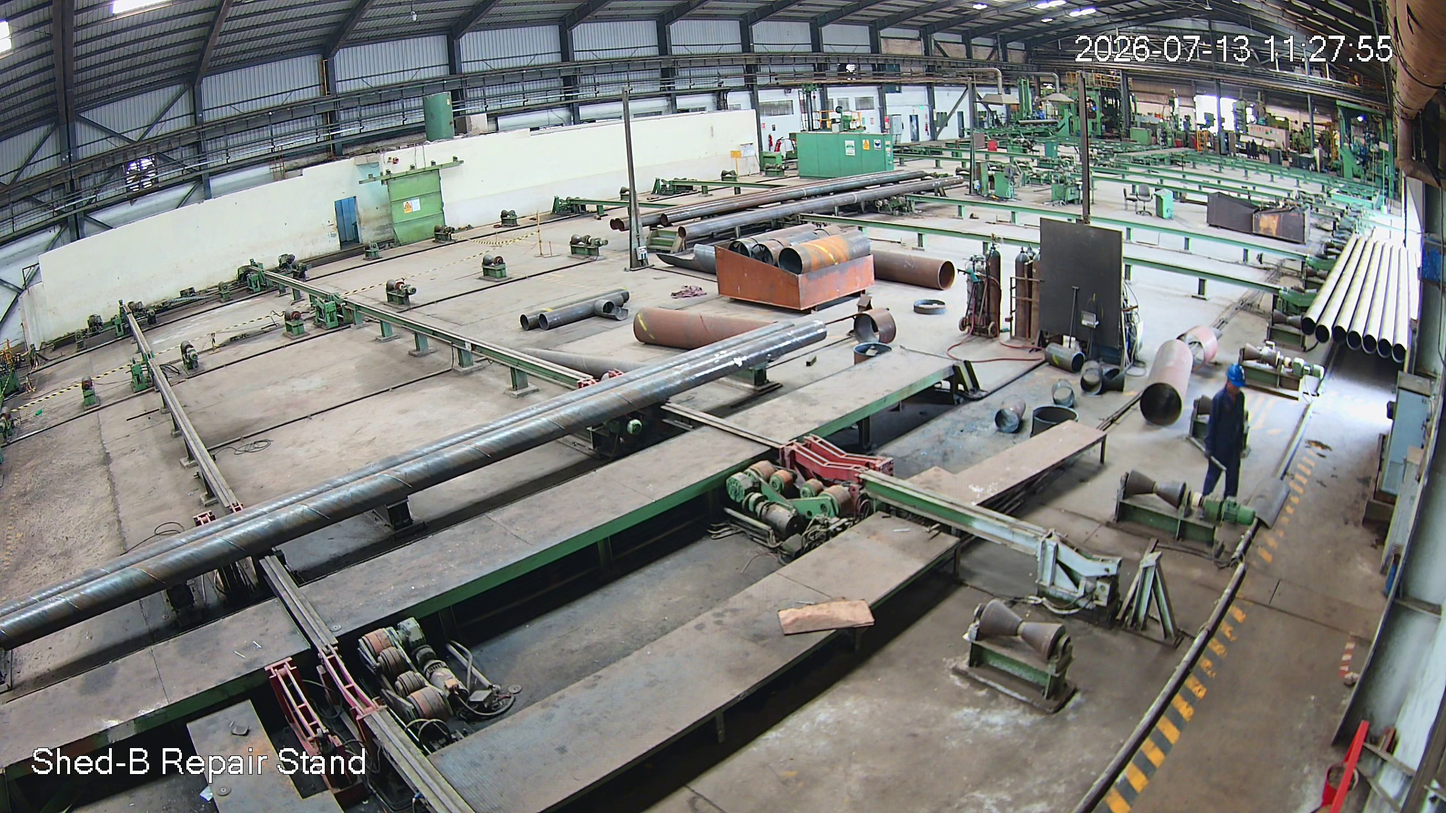Helmet: (1220, 360, 1256, 395)
Person: (1206, 362, 1254, 501)
